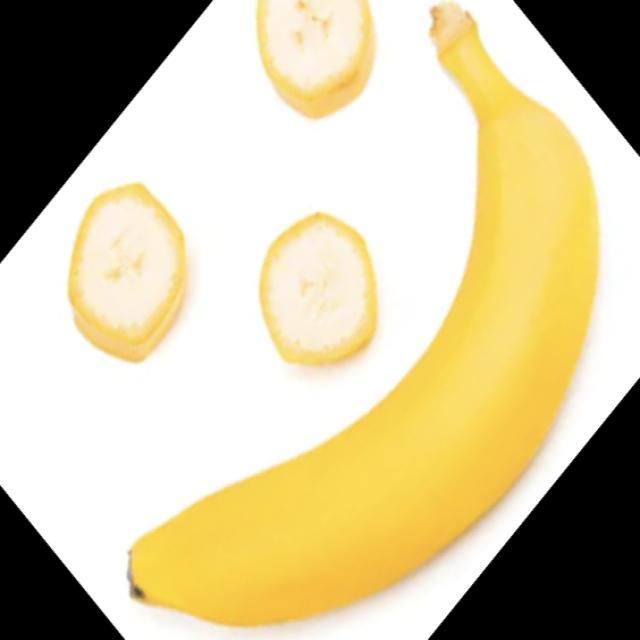Banana: (125, 2, 592, 624), (67, 181, 186, 362), (258, 210, 378, 365), (255, 0, 375, 119)
